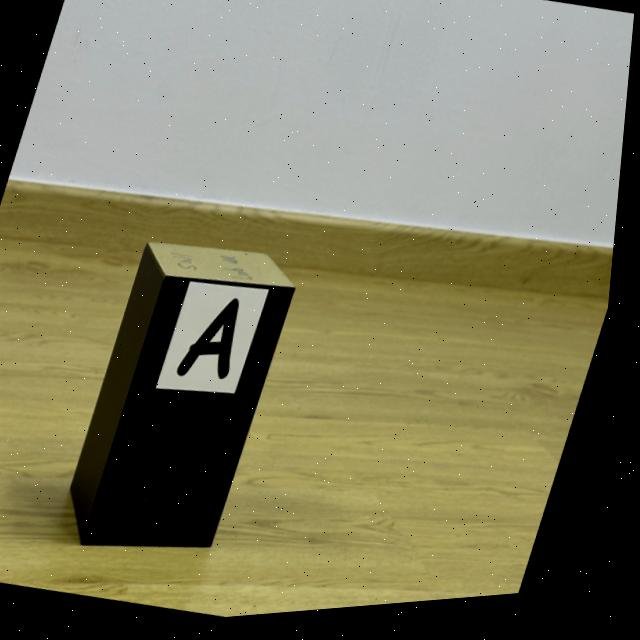A: (184, 302, 245, 383)
